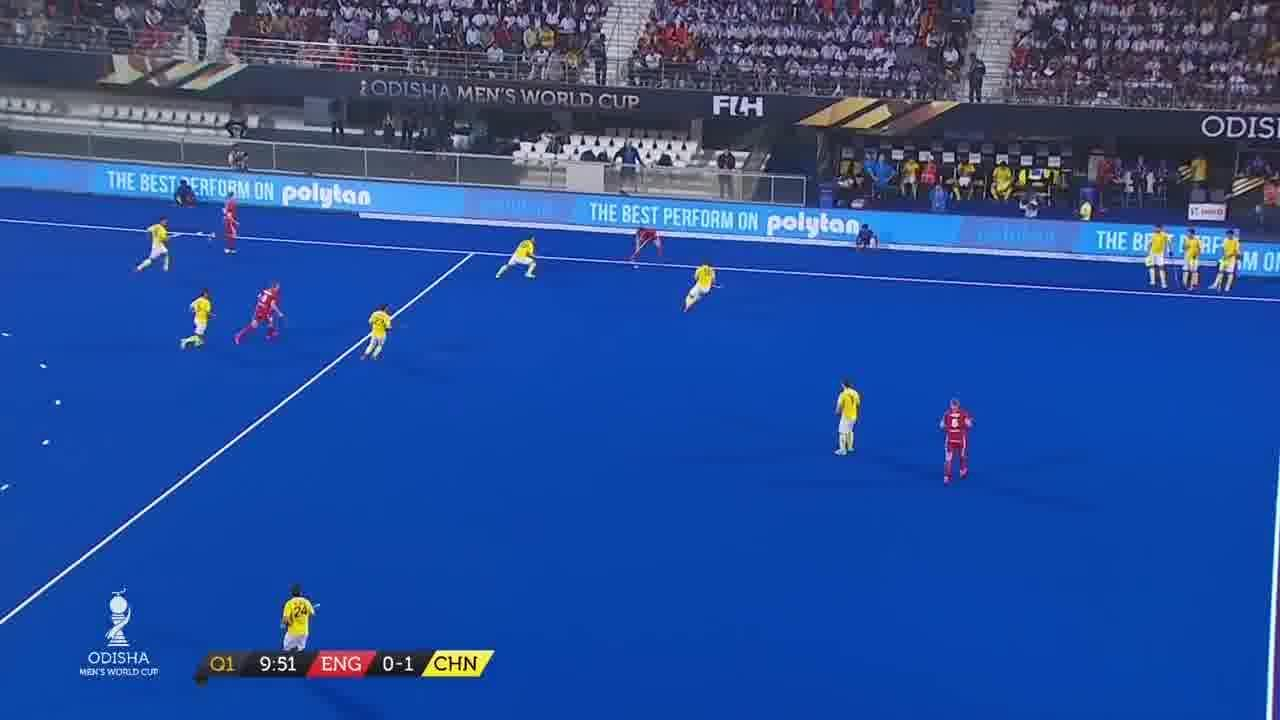ball: (627, 221, 659, 261)
